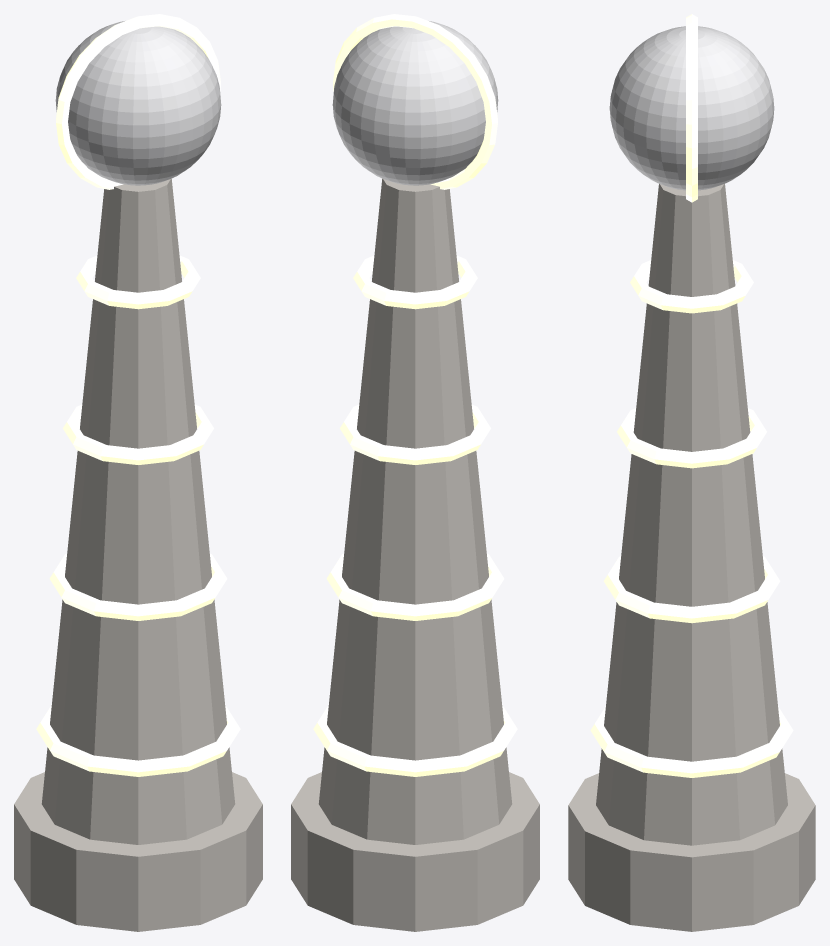
The model's file is MercuryBallSpireHero.fbx.
The picture shows the model from 3 angles, left to right: view 1: azimuth 30°, elevation 25°; view 2: azimuth 150°, elevation 25°; view 3: azimuth 270°, elevation 25°; orthographic projection.
Parts seen in each view (by area): view 1: MercuryBallSpireHero; view 2: MercuryBallSpireHero; view 3: MercuryBallSpireHero.
Boxes of the visible parts, x1=… form: MercuryBallSpireHero: x1=14, y1=14, x2=262, y2=931; MercuryBallSpireHero: x1=291, y1=14, x2=539, y2=931; MercuryBallSpireHero: x1=568, y1=14, x2=815, y2=931.
Bounding box in the file's own units: 90 × 344 × 90.
